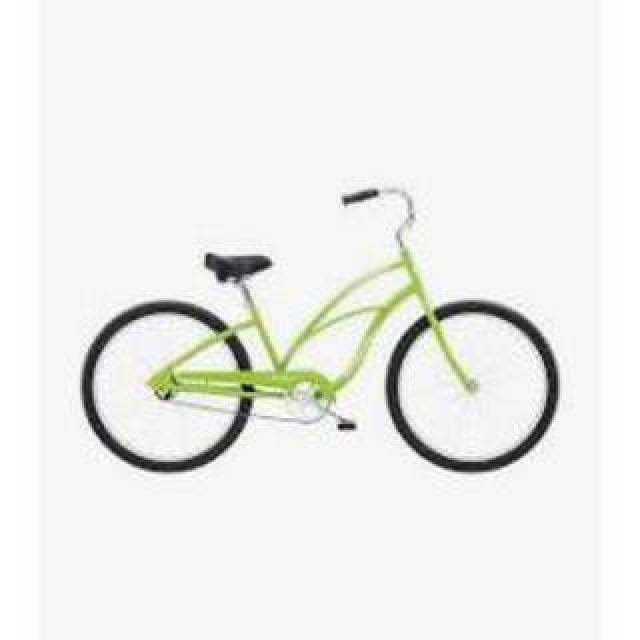Person: (77, 176, 563, 480)
